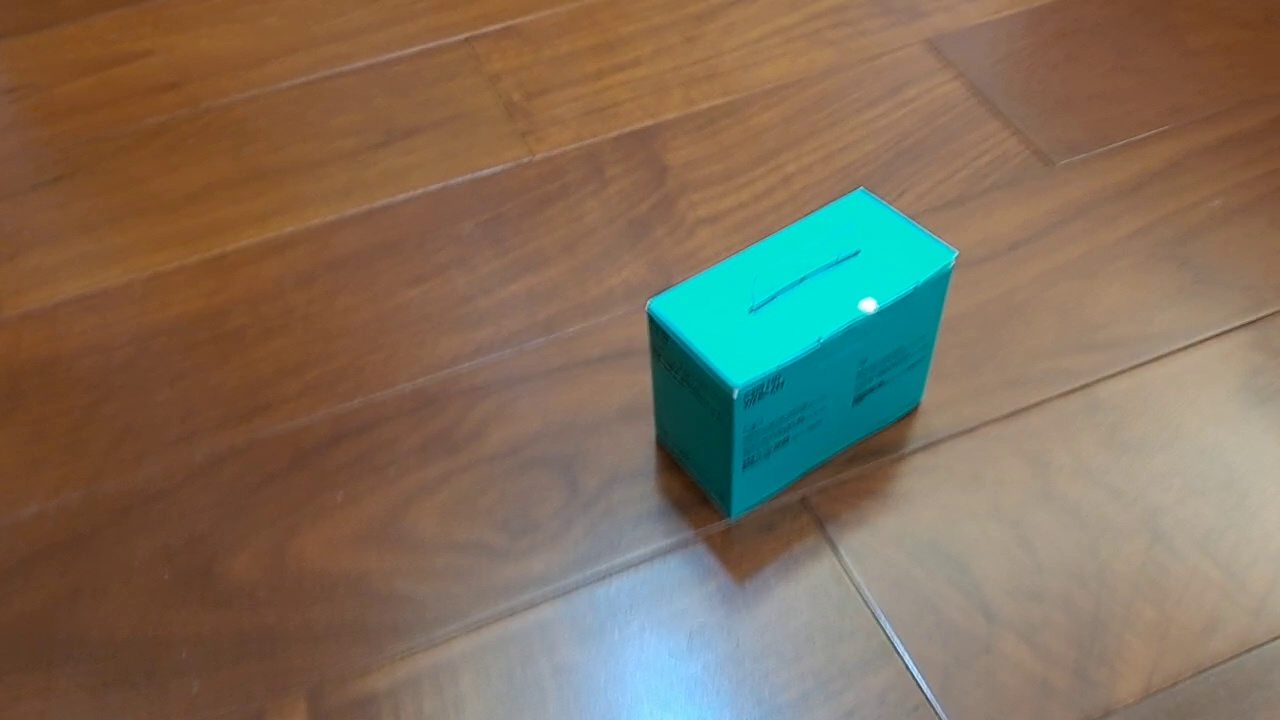webcam: (643, 183, 961, 525)
